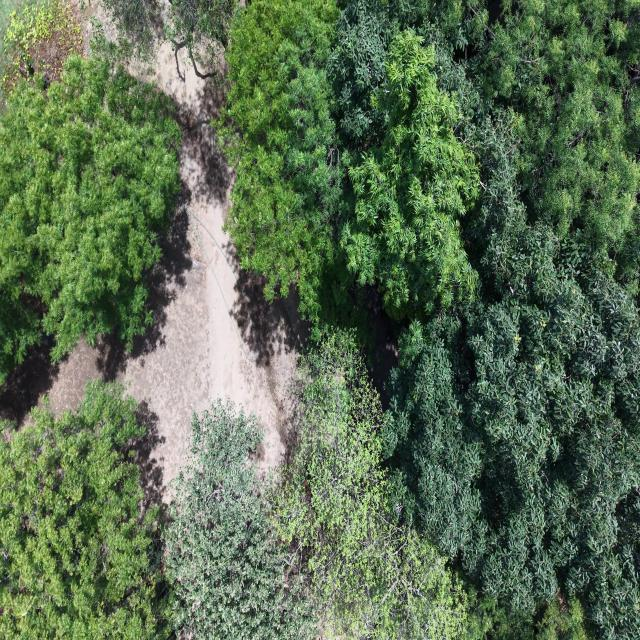DRY_AREA: (0, 41, 308, 501), (0, 42, 306, 497)
VEGETATION_TREE: (0, 0, 639, 639), (281, 0, 639, 639), (0, 332, 588, 639), (165, 332, 590, 639), (386, 231, 639, 638), (297, 0, 637, 287), (219, 0, 517, 325), (165, 332, 467, 638), (0, 382, 316, 639), (331, 0, 638, 250), (0, 3, 179, 381), (275, 332, 466, 639), (330, 0, 526, 299), (0, 56, 180, 381), (462, 0, 639, 290), (0, 382, 168, 639), (341, 30, 479, 318), (221, 0, 345, 318), (165, 400, 314, 639), (102, 0, 238, 79), (327, 2, 397, 148), (2, 0, 82, 92), (463, 587, 593, 639), (166, 0, 237, 78), (102, 0, 161, 60), (0, 0, 15, 35)
